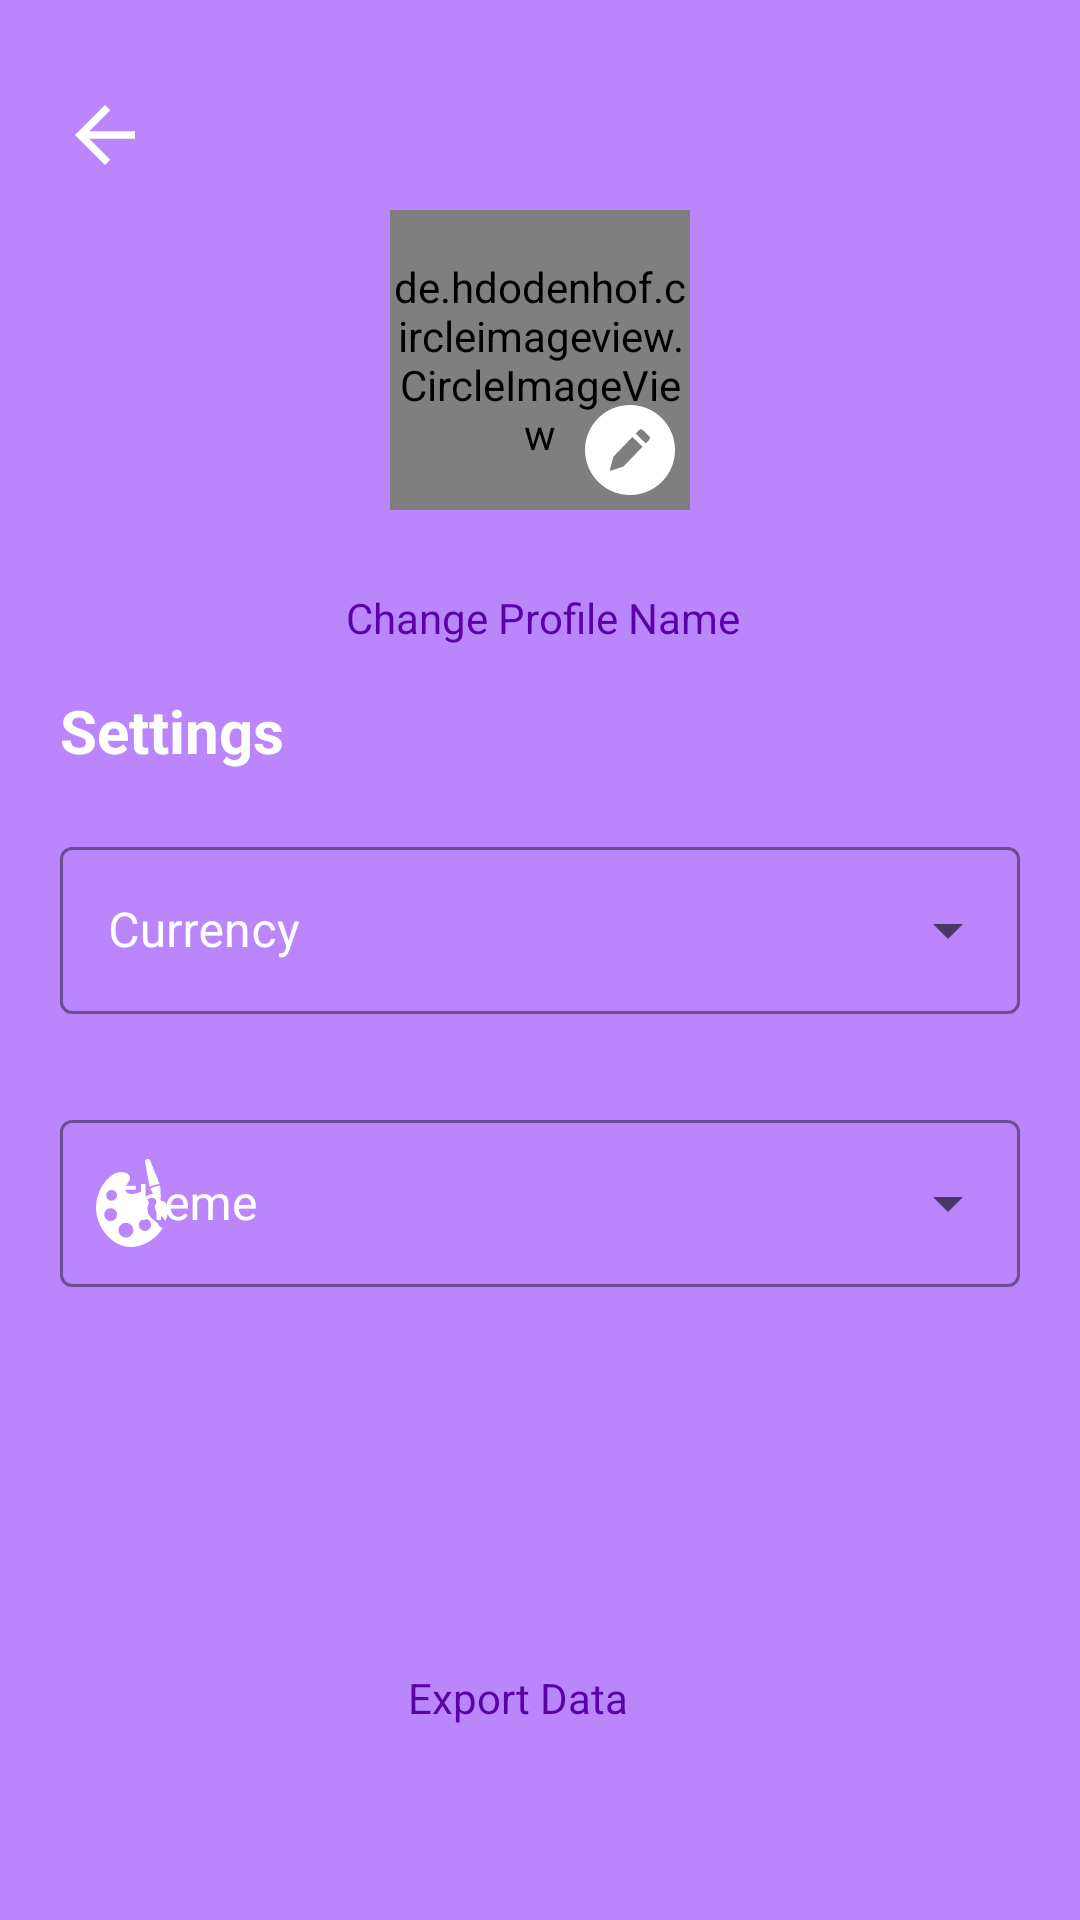

Where icons sit on this 1080 x 1920 app screen, as (x1, y1, x2, y2):
edit: (585, 405, 675, 495)
Go Back Button: (75, 105, 135, 165)
